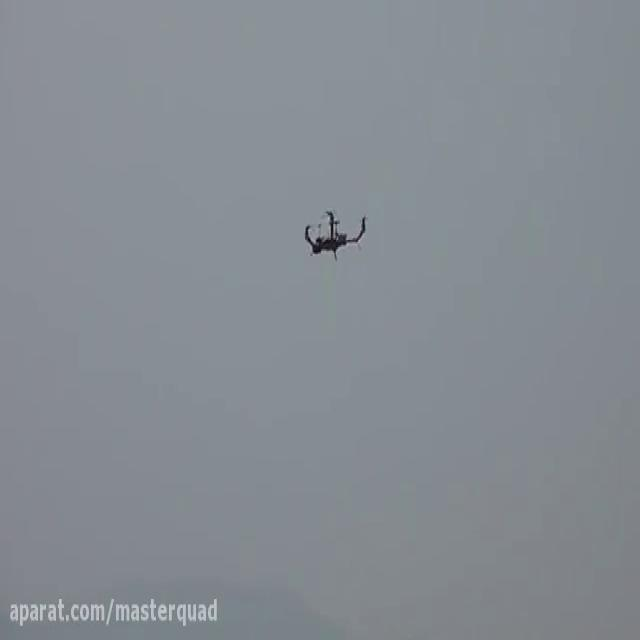drone: (298, 199, 372, 267)
